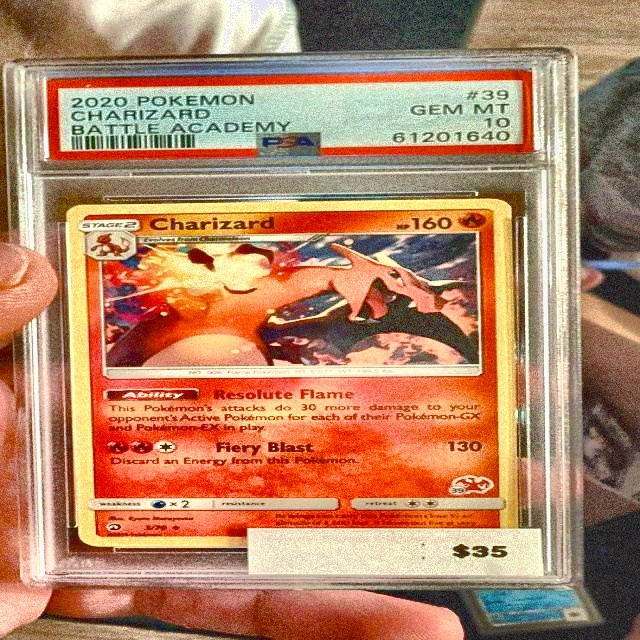card: (65, 197, 519, 548)
